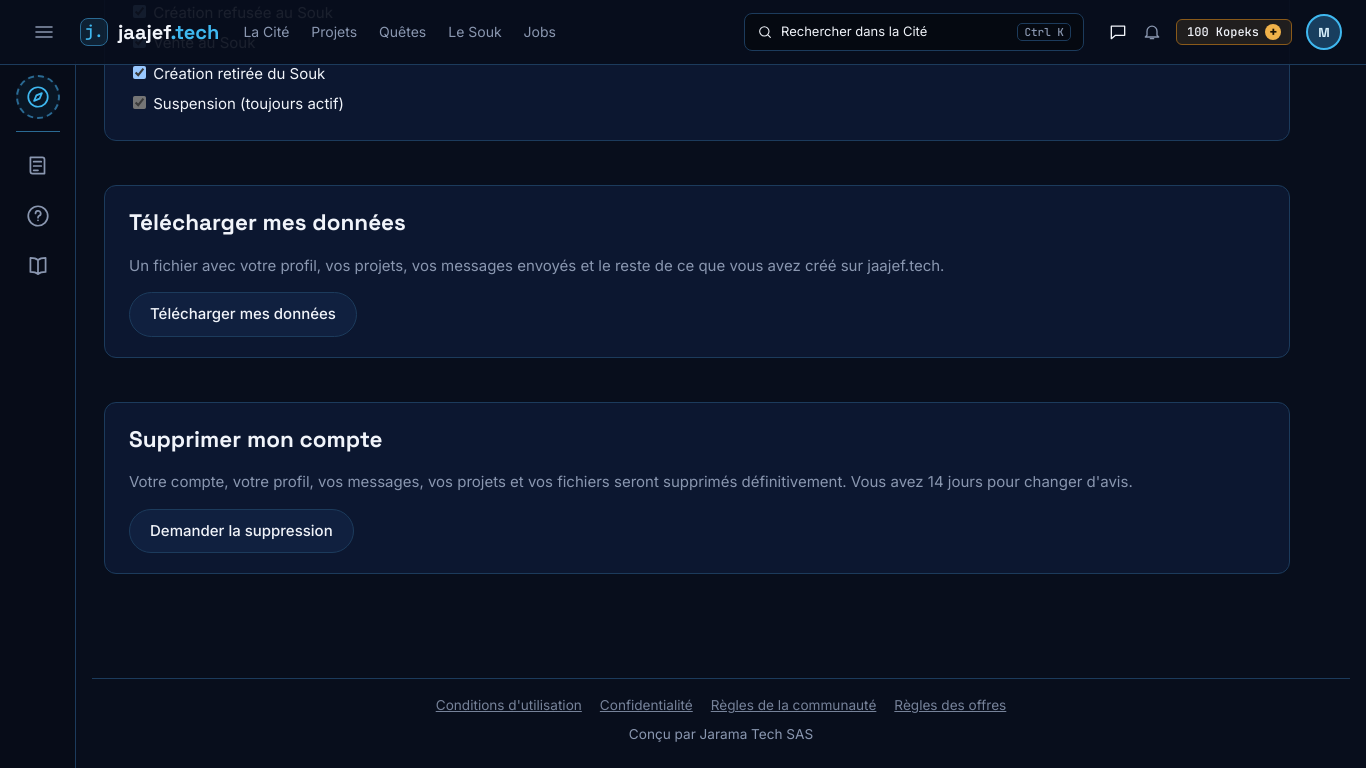
Test: Settings › requests the deletion after confirmation, then shows the date and a way to cancel
The image size is (1366, 768).
(page scrolled)
Click the button "Demander la suppression" at x=241, y=531, box 129,509 -> 354,553
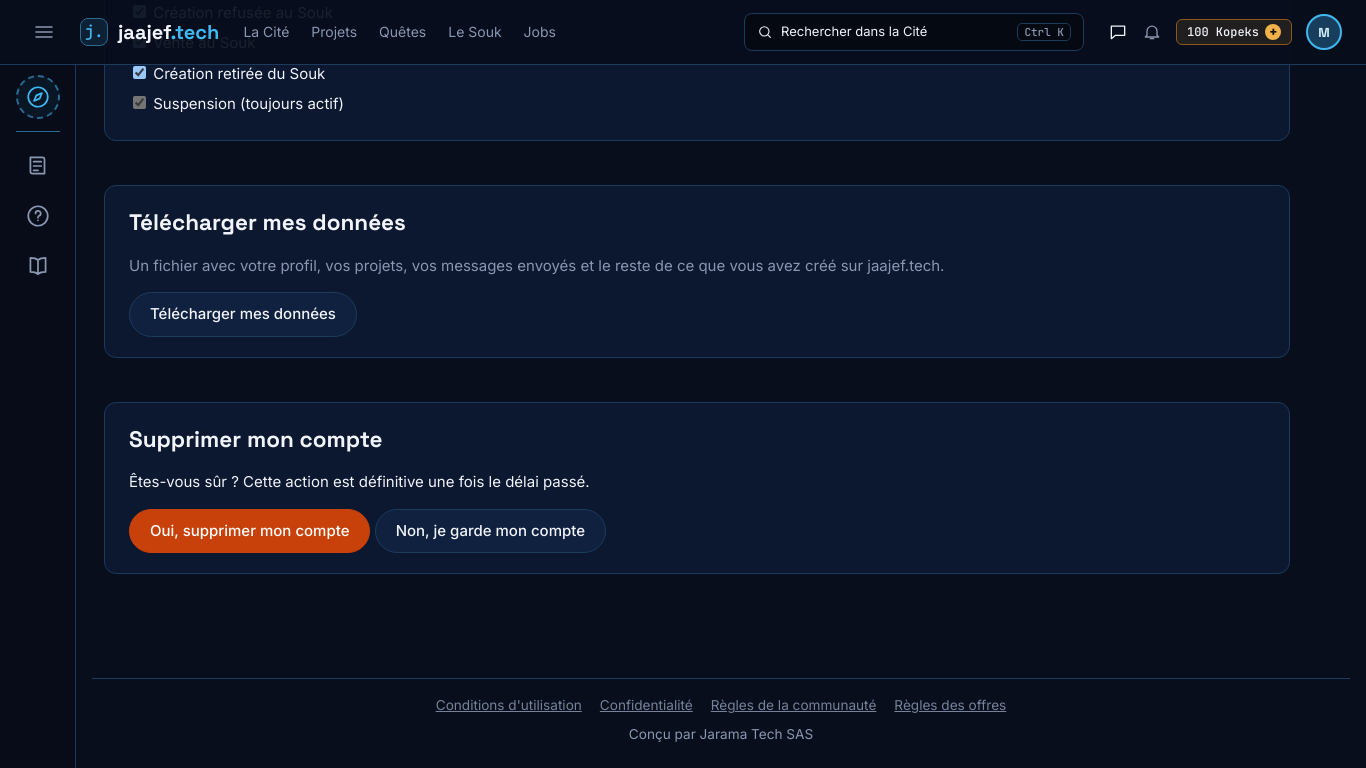
Click the button "Oui, supprimer mon compte" at x=250, y=531, box 129,509 -> 370,553
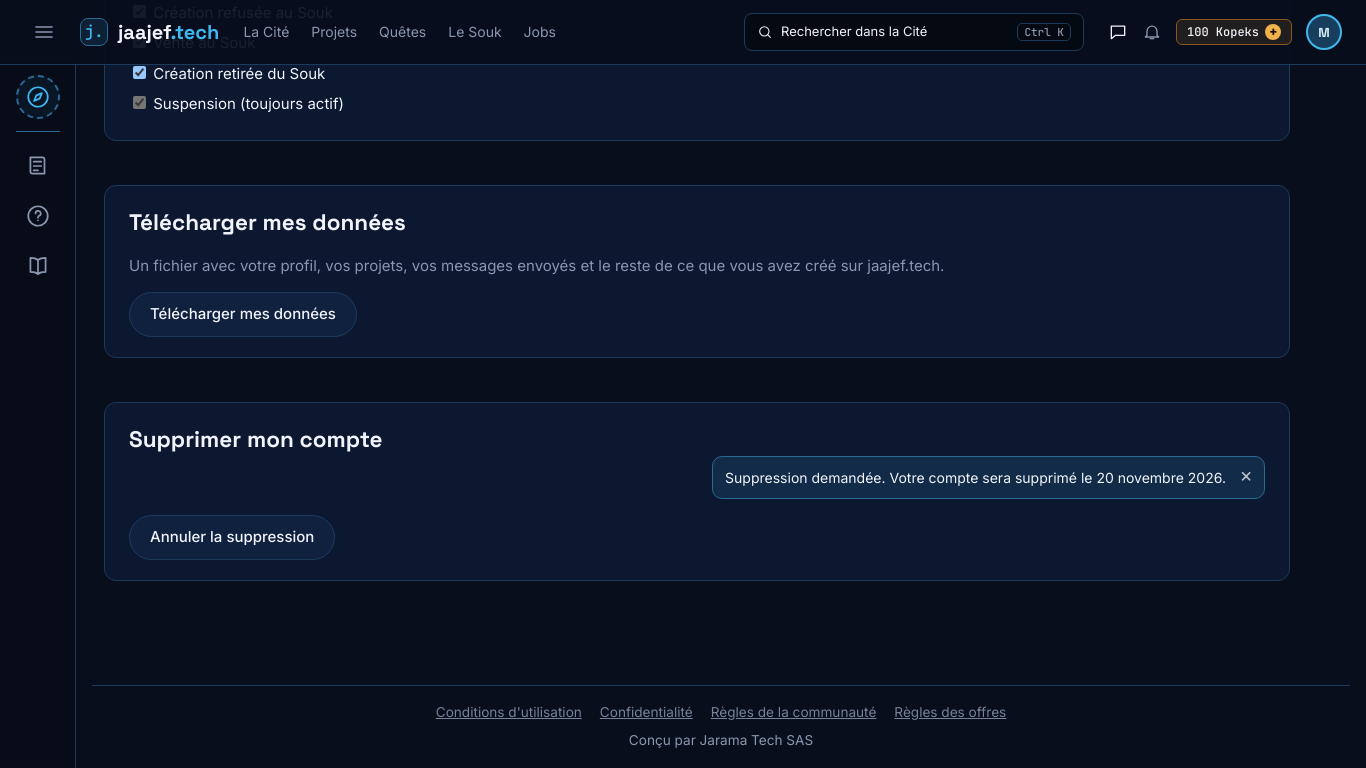
Expected: the button "Demander la suppression" is not shown
Expected: the message shows "20 novembre 2026", 725,469 -> 1226,486
Expected: the button "Annuler la suppression" is shown, 129,515 -> 335,560
